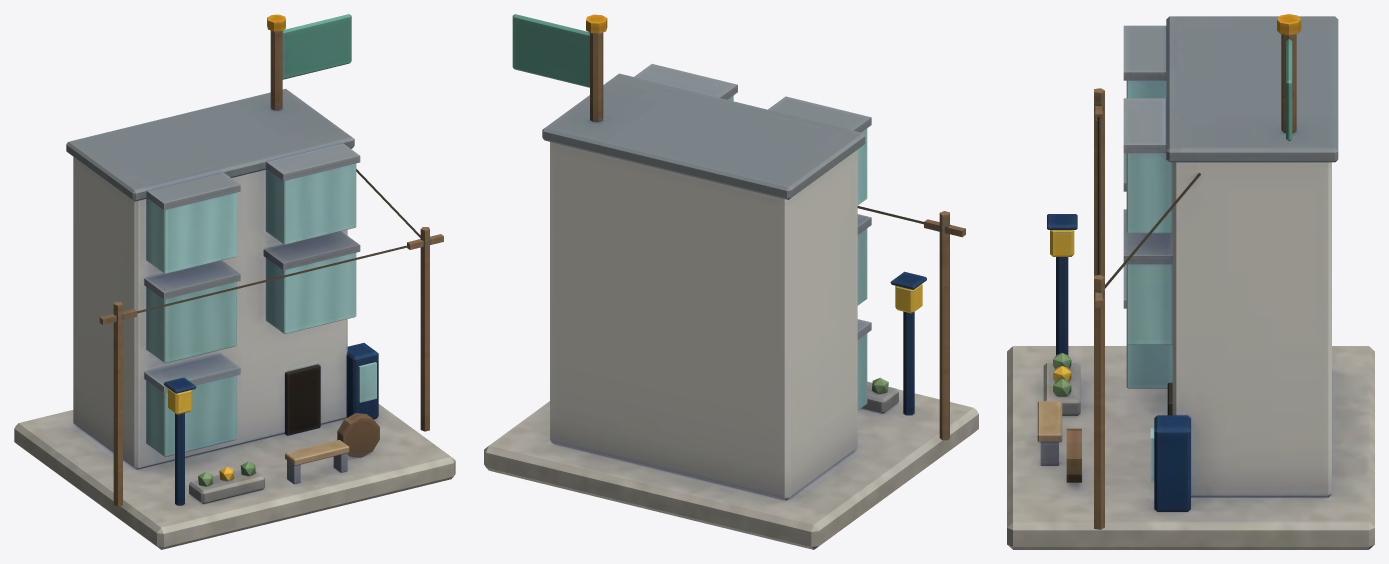
Rendered from shelters-20.glb.
The picture shows the model from 3 angles, left to right: view 1: azimuth 30°, elevation 25°; view 2: azimuth 150°, elevation 25°; view 3: azimuth 270°, elevation 25°; orthographic projection. The views are drawn at different scales.
Parts seen in each view (by area): view 1: shelters-20; view 2: shelters-20; view 3: shelters-20.
Part boxes in pixels (left/top/right/bottom): shelters-20: left=14, top=14, right=455, bottom=549; shelters-20: left=484, top=14, right=978, bottom=549; shelters-20: left=1007, top=14, right=1374, bottom=549.
Bounding box in the file's own units: 1.6 × 1.77 × 1.2.
1 material, 1 textured.
